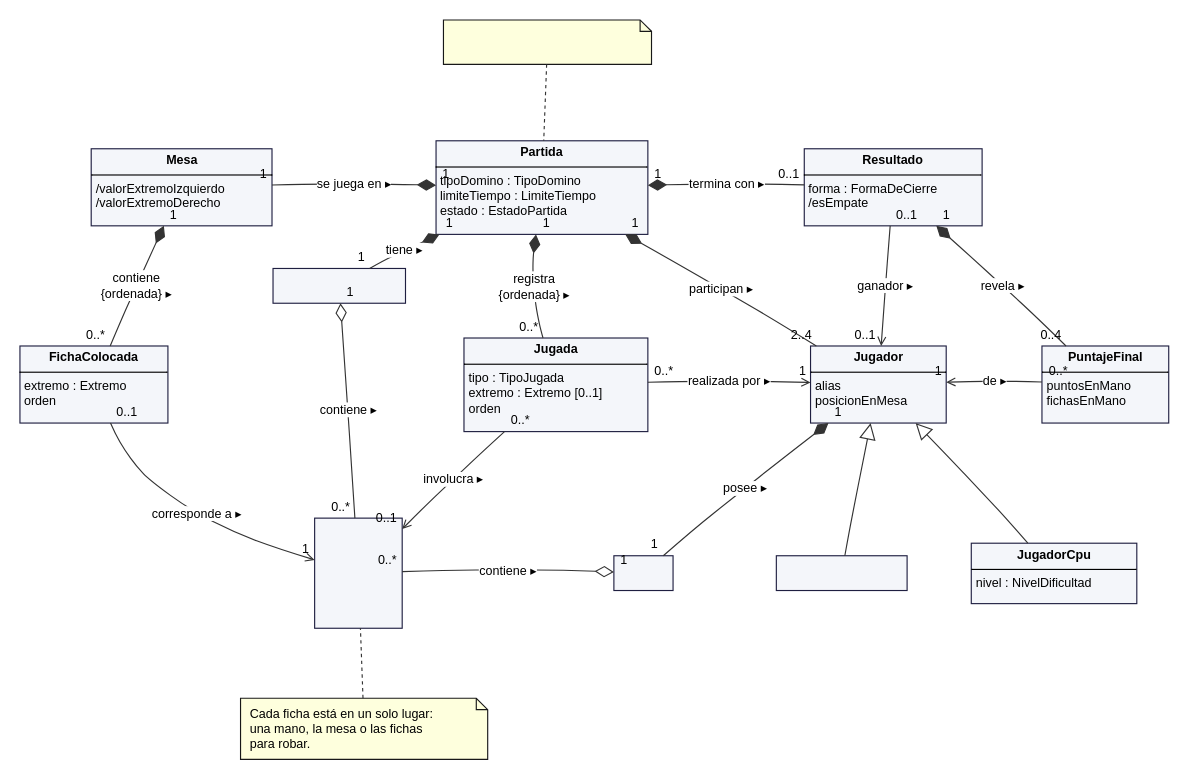
The diagram is 1189 pixels wide and 780 high, and some of its shapes have lost their labels. Here are the shapes that lost their labels. From the top down, the centre of each, then its label:
At point (547, 41): "Un JugadorHumano y de uno a tres JugadorCpu.".
At point (338, 285): "FichasParaRobar".
At point (358, 572): "Ficha valorA valorB /puntos /esDoble".
At point (643, 573): "Mano".
At point (841, 573): "JugadorHumano".
